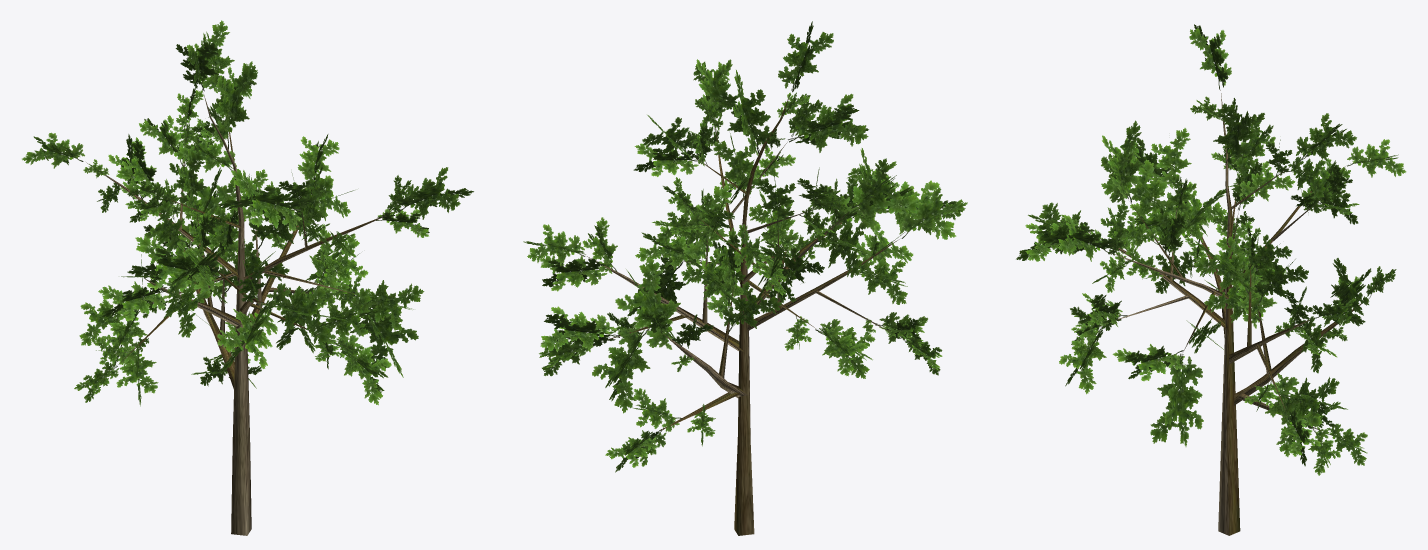
Rendered from tree-oak.glb.
The picture shows the model from 3 angles, left to right: view 1: azimuth 30°, elevation 25°; view 2: azimuth 150°, elevation 25°; view 3: azimuth 270°, elevation 25°; orthographic projection. The views are drawn at different scales.
Visible parts, largest first — view 1: Tree; view 2: Tree; view 3: Tree.
Part boxes in pixels (x1,y1,x2,y2): Tree: (22,20,473,535); Tree: (523,21,967,535); Tree: (1016,24,1406,535).
Bounding box in the file's own units: 0.7315 × 1 × 0.7541.
2 materials, 2 textured.
